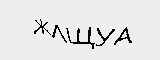А: (112, 25, 133, 46)
Ж: (32, 17, 52, 37)
Л: (48, 23, 66, 44)
У: (93, 24, 115, 47)
Щ: (66, 24, 93, 50)
